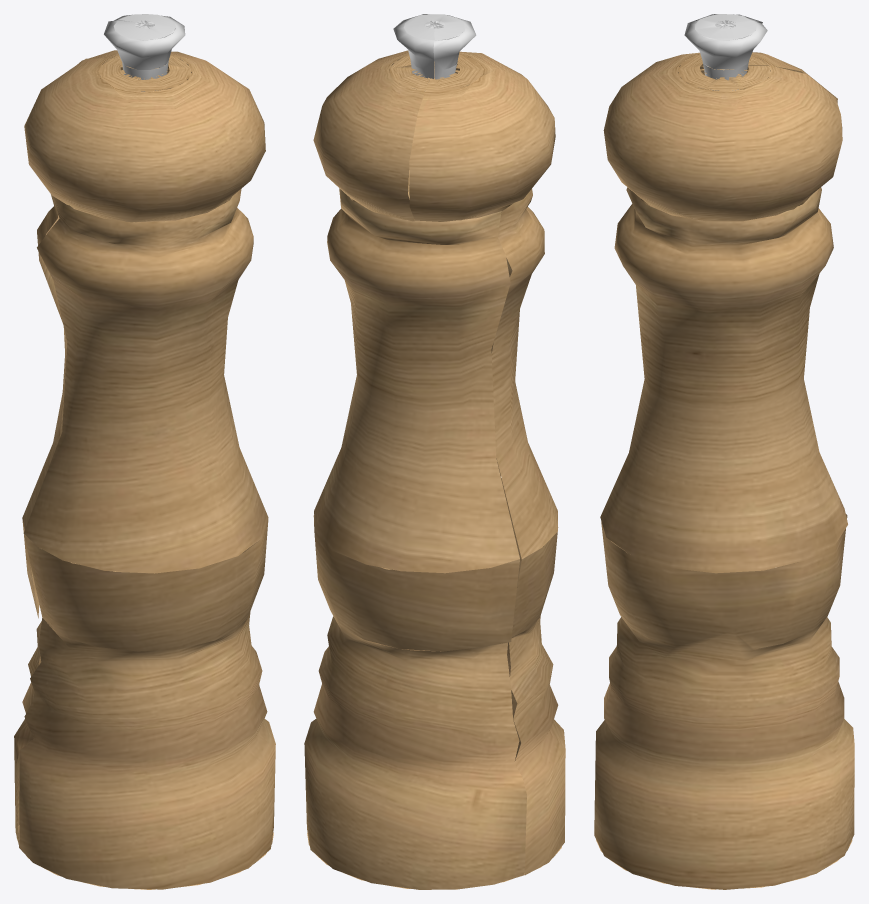
File: pepper.glb
3 renders of one model, left to right at view 1: azimuth 30°, elevation 25°; view 2: azimuth 150°, elevation 25°; view 3: azimuth 270°, elevation 25°, orthographic.
Parts seen in each view (by area): view 1: ShakerPepper; view 2: ShakerPepper; view 3: ShakerPepper.
Part boxes in pixels (box(x1,y1,x2,y2)): ShakerPepper: box(14, 14, 275, 889); ShakerPepper: box(304, 14, 565, 889); ShakerPepper: box(594, 14, 854, 889).
Bounding box in the file's own units: 0.0617 × 0.2118 × 0.0616.
Materials: 2 (1 with a texture image).
